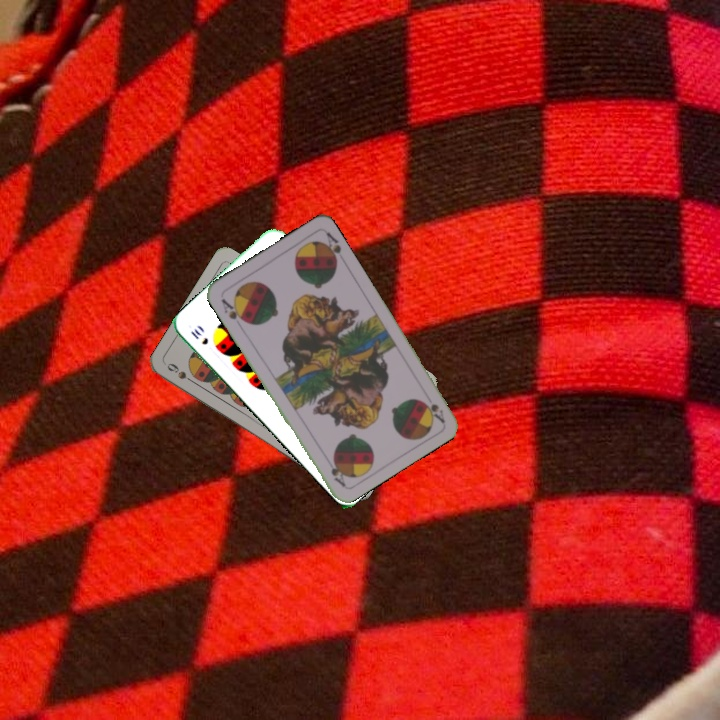S10: (186, 324, 211, 348)
S9: (163, 359, 199, 387)
SA: (217, 294, 249, 326), (419, 396, 447, 425)
